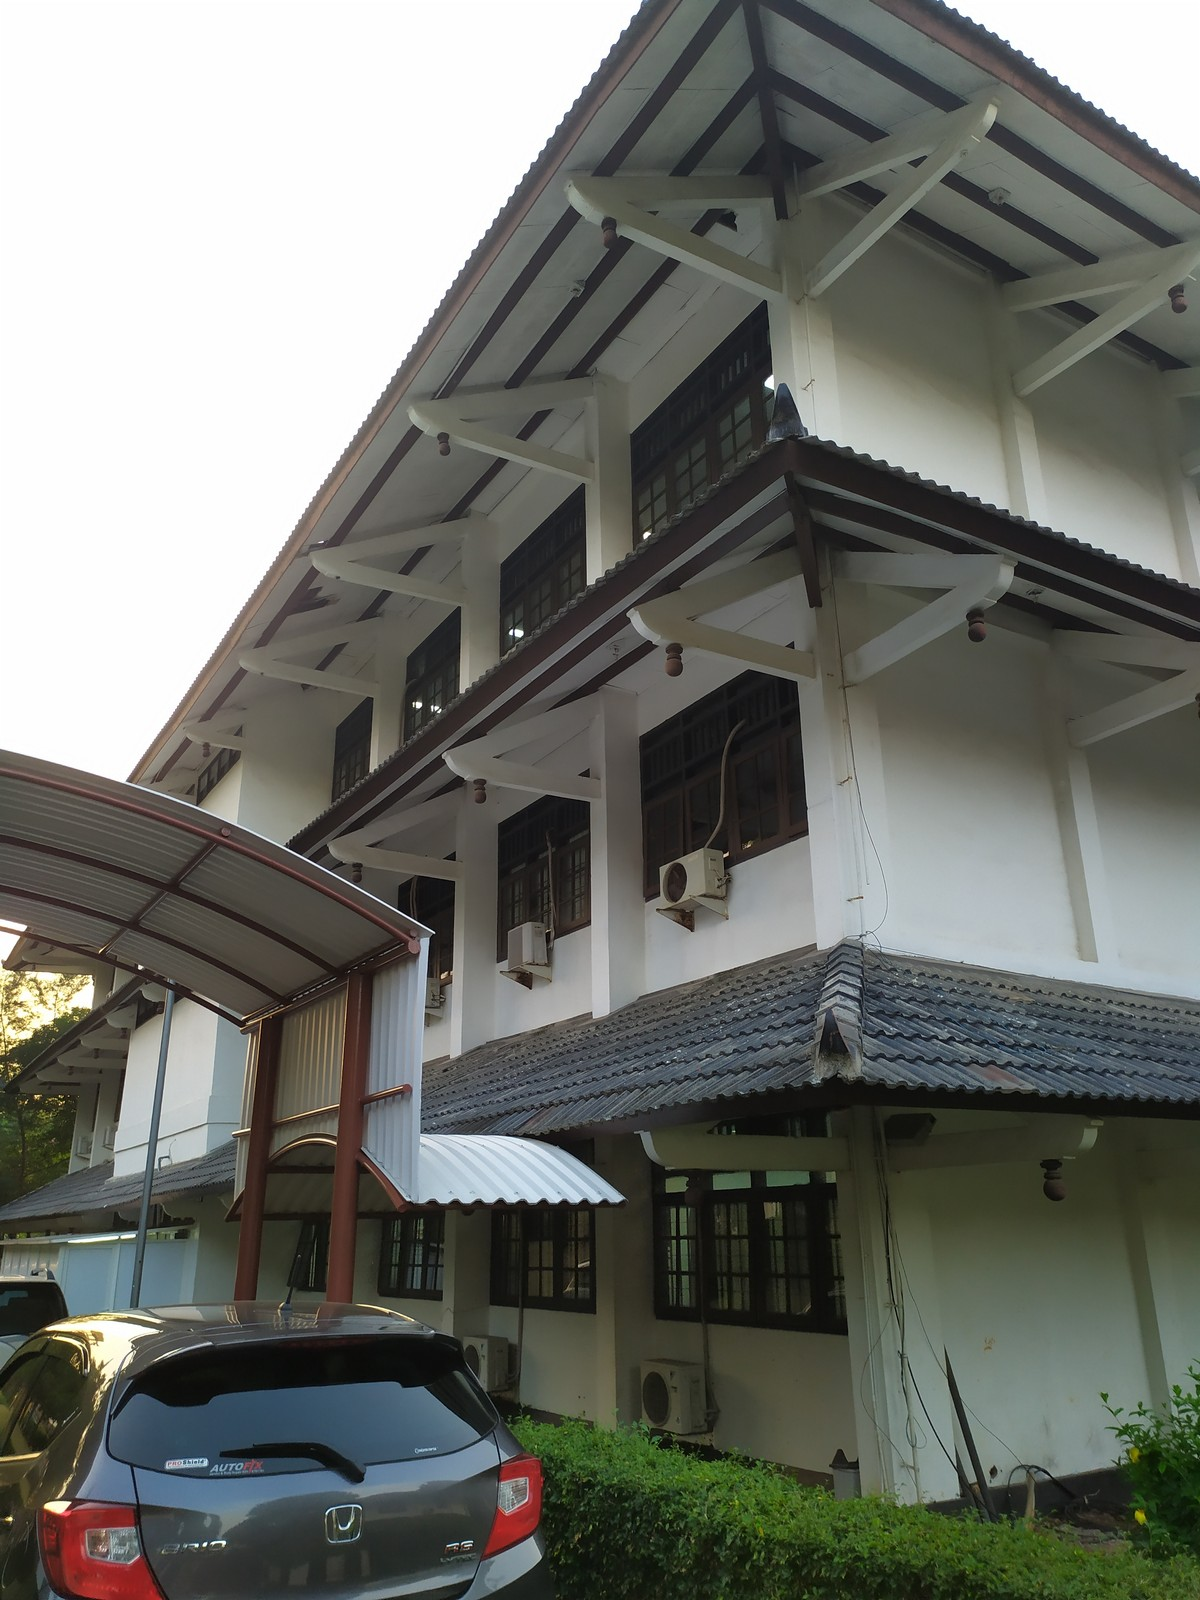concrete beam: (639, 215, 787, 299), (691, 624, 817, 690), (473, 425, 589, 484), (1066, 682, 1168, 746), (498, 760, 596, 803), (376, 839, 461, 886)
concrete column: (829, 1125, 966, 1511), (789, 588, 901, 947), (1037, 644, 1136, 965), (582, 693, 654, 1015), (753, 181, 845, 432), (979, 281, 1058, 511), (442, 794, 498, 1051), (592, 1180, 648, 1429), (575, 374, 642, 569), (447, 515, 500, 682), (366, 631, 405, 765)
